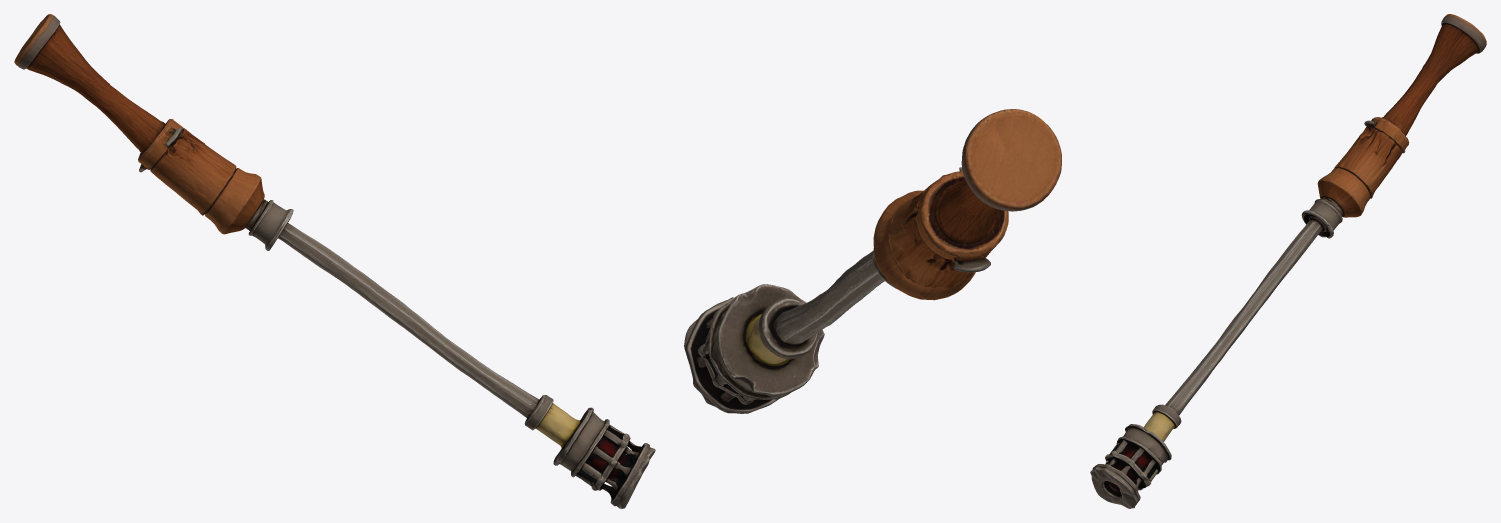
The model's file is kilnlance.glb.
3 views of the same model, side by side, from view 1: azimuth 30°, elevation 25°; view 2: azimuth 150°, elevation 25°; view 3: azimuth 270°, elevation 25° (orthographic). The views are drawn at different scales.
Visible parts, largest first — view 1: tripo_node_bdce4ac2-c877-475c-bd04-e8b1f9308cfe; view 2: tripo_node_bdce4ac2-c877-475c-bd04-e8b1f9308cfe; view 3: tripo_node_bdce4ac2-c877-475c-bd04-e8b1f9308cfe.
Boxes of the visible parts, x1,y1,x2,y2 form: tripo_node_bdce4ac2-c877-475c-bd04-e8b1f9308cfe: [14, 14, 655, 508]; tripo_node_bdce4ac2-c877-475c-bd04-e8b1f9308cfe: [684, 109, 1061, 413]; tripo_node_bdce4ac2-c877-475c-bd04-e8b1f9308cfe: [1090, 14, 1486, 508].
Size of the model in its own units: 1 by 0.9414 by 0.979.
Materials: 1 (1 with a texture image).
